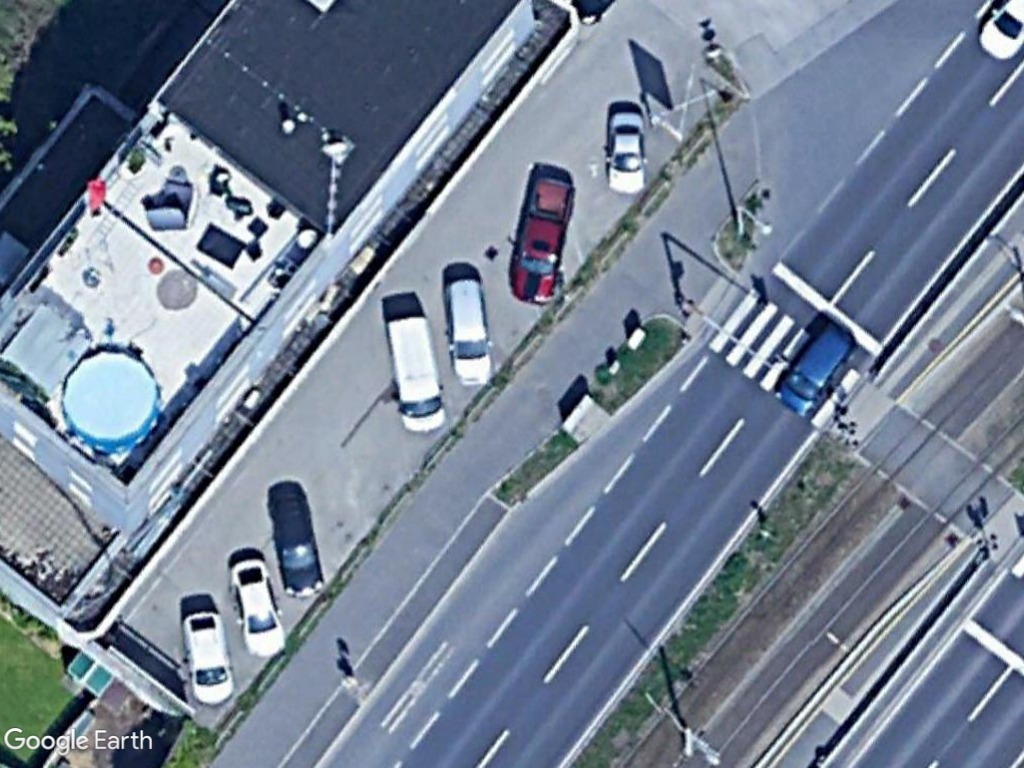car: (772, 319, 861, 419), (269, 487, 328, 600), (227, 554, 288, 663), (440, 273, 493, 390), (183, 608, 240, 708), (602, 105, 646, 197)
other: (509, 174, 576, 307)
van: (383, 312, 448, 438)
